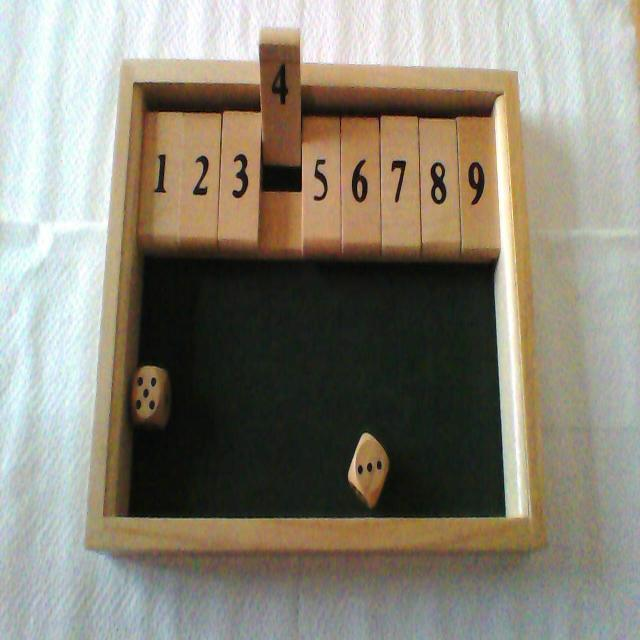3: (346, 430, 392, 510)
5: (128, 362, 166, 427)
C1: (138, 59, 181, 254)
C2: (178, 59, 222, 253)
C3: (218, 58, 259, 254)
C5: (303, 63, 340, 253)
C6: (343, 65, 379, 257)
C7: (382, 66, 421, 258)
C8: (420, 66, 461, 256)
C9: (458, 69, 500, 258)
O4: (260, 27, 300, 257)
